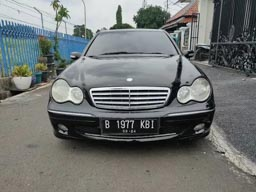plat: (100, 117, 161, 128)
